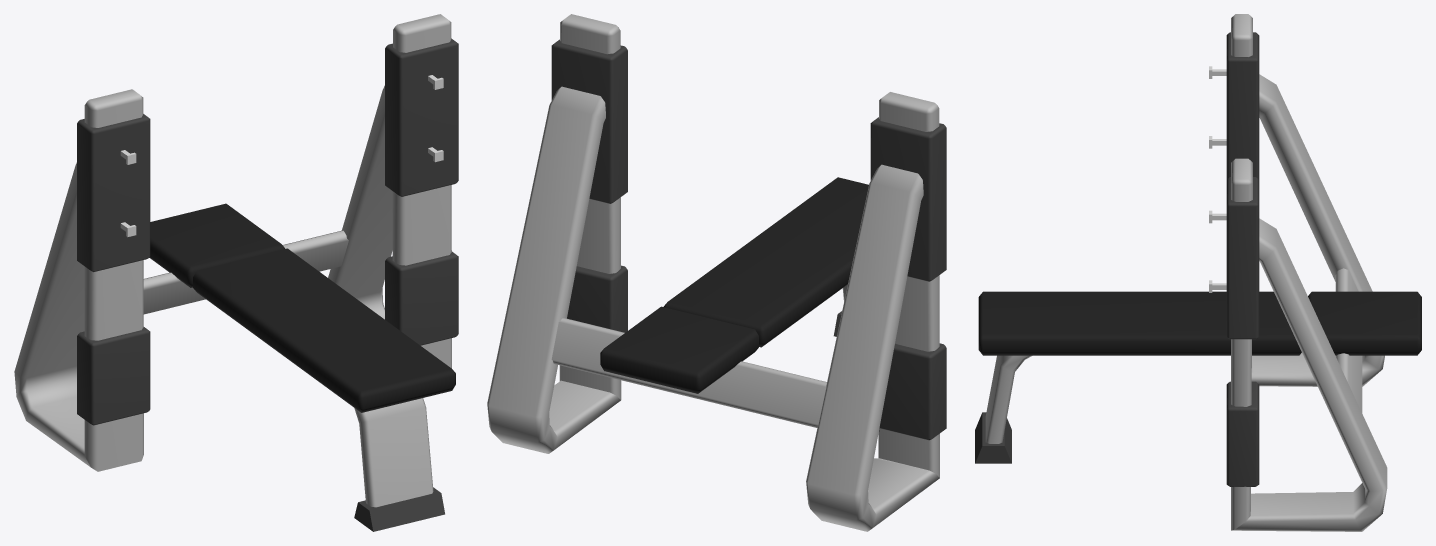
The model's file is training_006.fbx.
The picture shows the model from 3 angles, left to right: view 1: azimuth 30°, elevation 25°; view 2: azimuth 150°, elevation 25°; view 3: azimuth 270°, elevation 25°; orthographic projection. The views are drawn at different scales.
Parts seen in each view (by area): view 1: training_006; view 2: training_006; view 3: training_006.
Boxes of the visible parts, x1,y1,x2,y2 form: training_006: (14, 14, 458, 531); training_006: (487, 14, 946, 531); training_006: (975, 14, 1421, 531).
Size of the model in its own units: 170 by 185 by 161.
